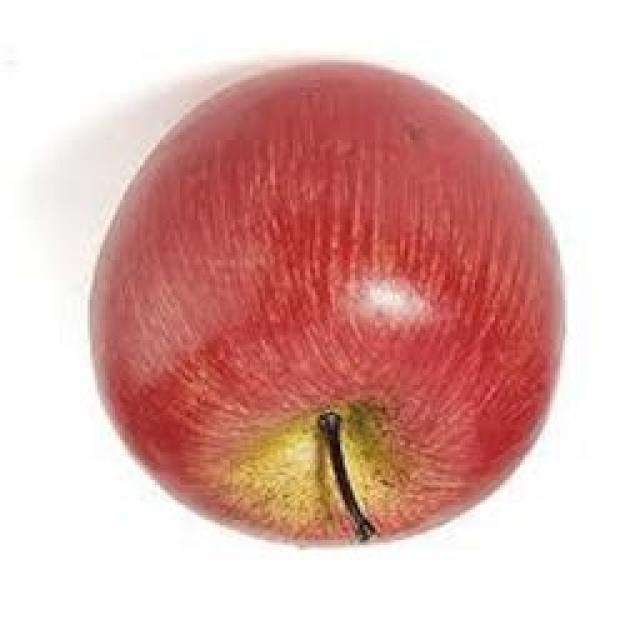apple: (86, 58, 566, 547)
